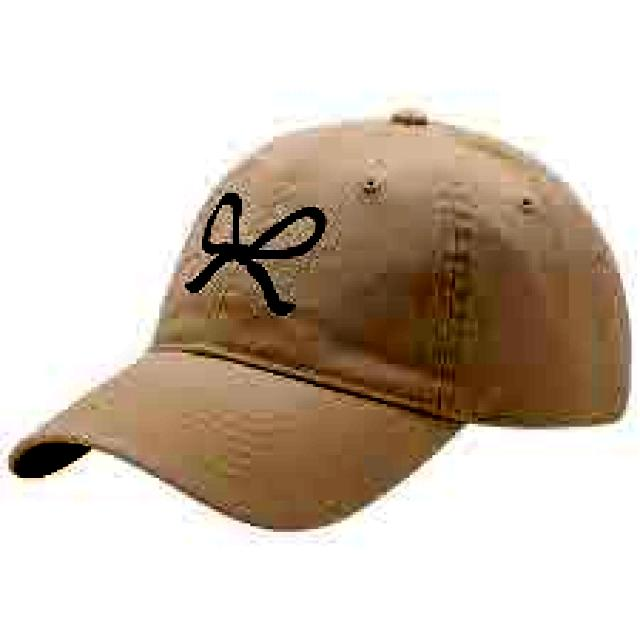hat: (12, 111, 628, 529)
